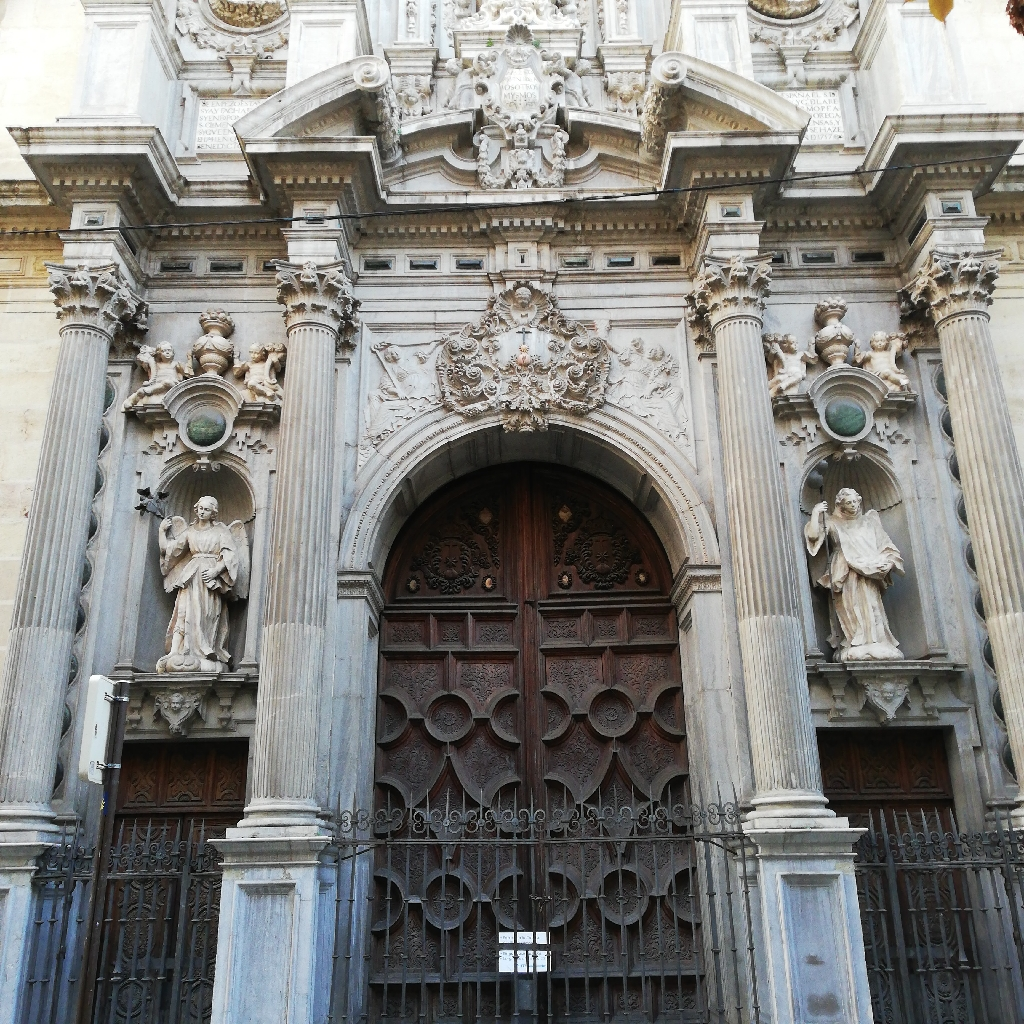arco-medio-punto: (359, 412, 702, 617)
fronton-partido: (226, 48, 819, 169)
